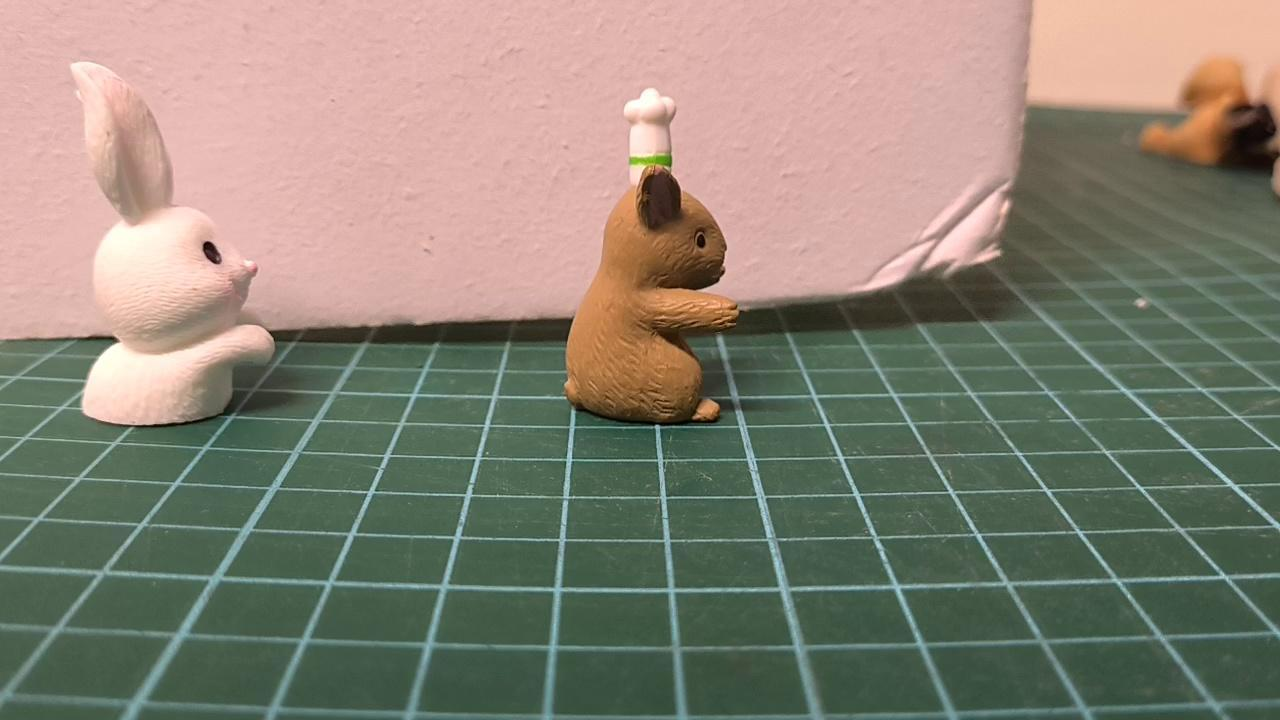pet: (72, 60, 277, 427), (564, 89, 739, 428)
